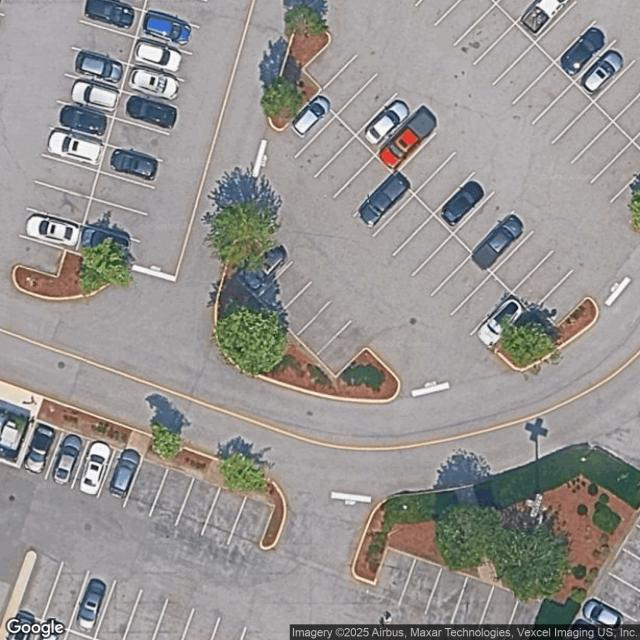car: (376, 105, 441, 172), (469, 211, 527, 273), (357, 171, 413, 231), (554, 24, 612, 80), (474, 296, 529, 351), (358, 97, 412, 149), (436, 178, 488, 230), (577, 47, 628, 97), (74, 439, 116, 499), (72, 574, 112, 636), (24, 213, 83, 253), (45, 129, 107, 167), (19, 422, 60, 479), (49, 431, 89, 489), (288, 91, 336, 139), (105, 447, 144, 503), (125, 95, 180, 132), (127, 66, 182, 102), (580, 596, 630, 635), (58, 103, 110, 140), (69, 78, 121, 115), (73, 49, 125, 86), (140, 11, 193, 47), (132, 37, 185, 73), (109, 147, 161, 183), (80, 226, 133, 261), (84, 0, 138, 30), (5, 610, 40, 639)
